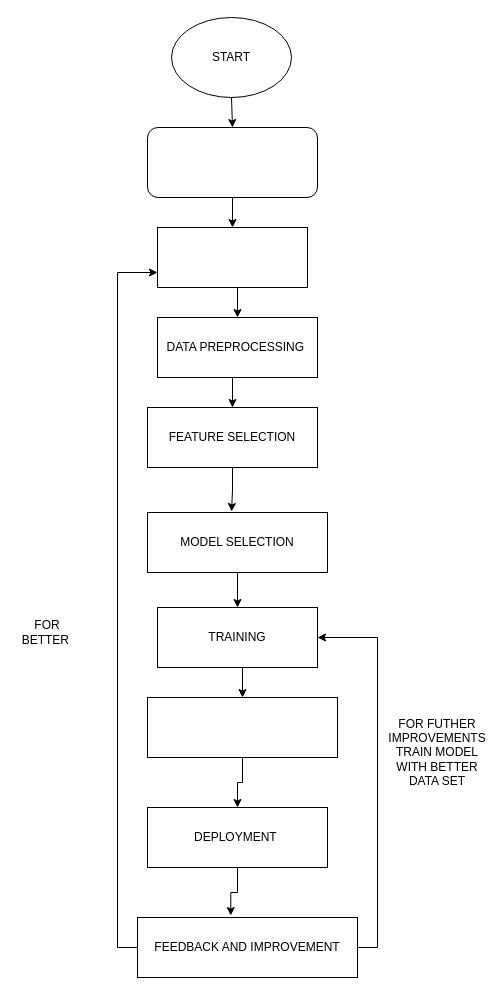
This 503x995 diagram has some shape labels left out. The shapes that lost their labels are listed below. From the top down, each one's centre as x and y in pixels, then its label:
At point (232, 162): "PROBLEM DEFINITION".
At point (232, 257): "DATA COLLECTION".
At point (242, 727): "TESTING AND EVALUYATION".
